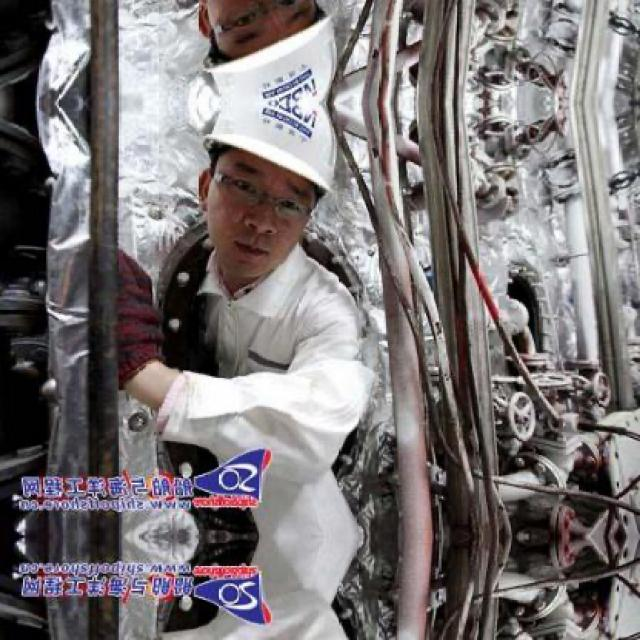helmet: (188, 105, 344, 287), (187, 0, 345, 103)
